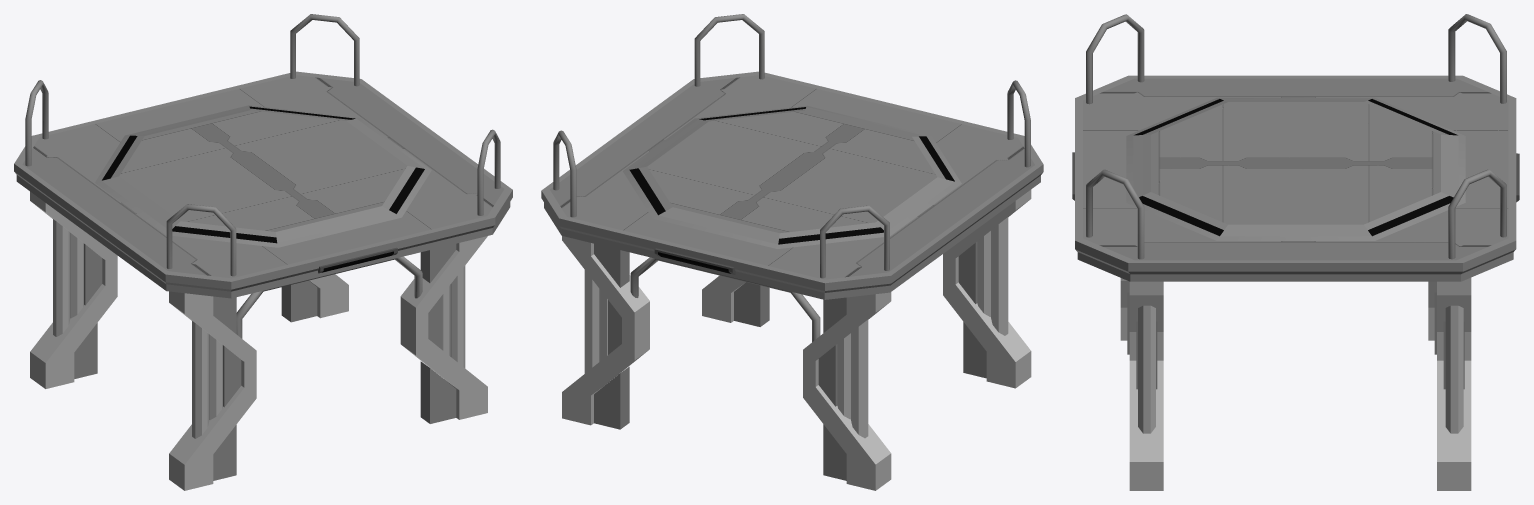
File: SM_Platform_5x5_1.fbx
3 views of the same model, side by side, from view 1: azimuth 30°, elevation 25°; view 2: azimuth 150°, elevation 25°; view 3: azimuth 270°, elevation 25° (orthographic). The views are drawn at different scales.
Visible parts, largest first — view 1: SM_Platform_5x5_1; view 2: SM_Platform_5x5_1; view 3: SM_Platform_5x5_1.
Part boxes in pixels (x1,y1,x2,y2): SM_Platform_5x5_1: [14, 14, 512, 490]; SM_Platform_5x5_1: [541, 14, 1043, 490]; SM_Platform_5x5_1: [1072, 14, 1519, 490].
Size of the model in its own units: 505 by 394 by 509.
